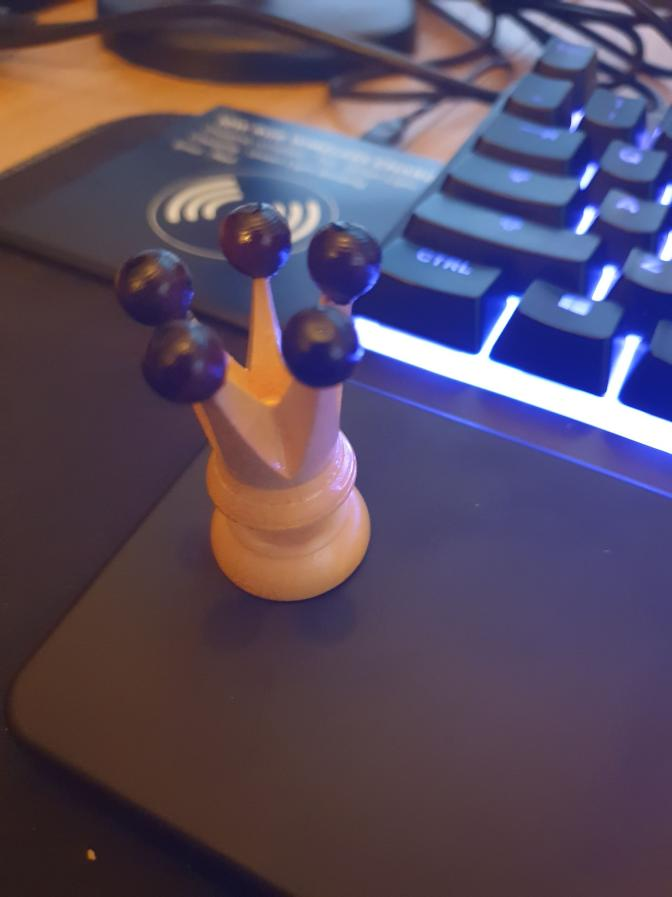wqueen: (114, 203, 388, 605)
